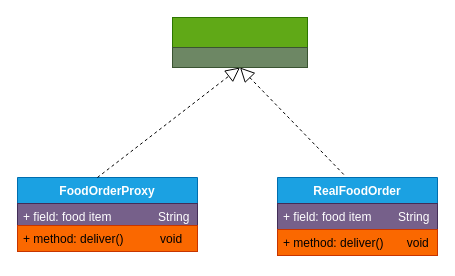
Image size: 455x276. Some labels were removed from this diagram. The shapes that lost their labels are listed below. From the top down, each one's centre as x and y in pixels, then its label:
At point 240,32: "«interface» FoodOder".
At point 240,57: "+ method:deliver()".
